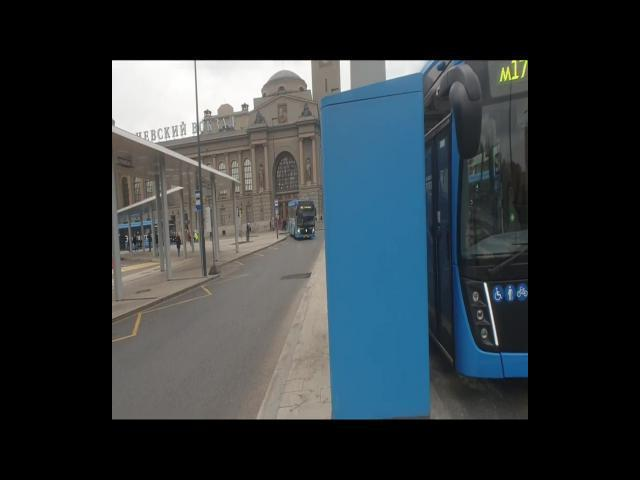bus: (422, 63, 527, 389), (286, 199, 316, 238)
